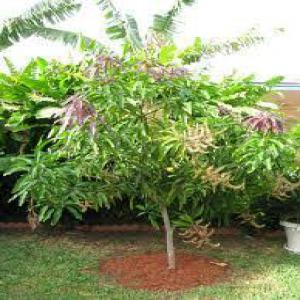Tree: (22, 47, 275, 268)
